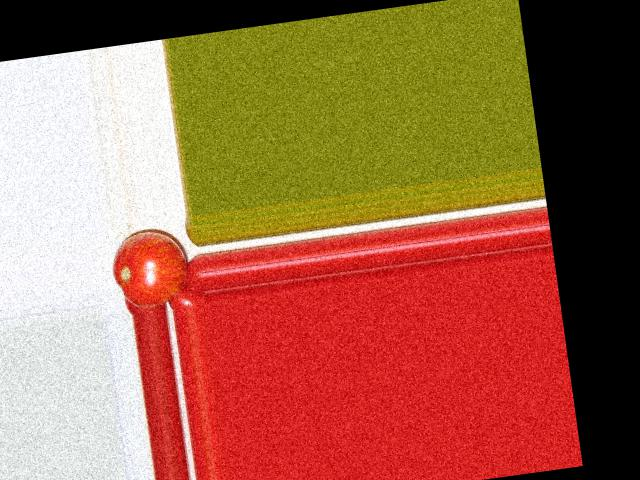tomato: (107, 226, 192, 312)
